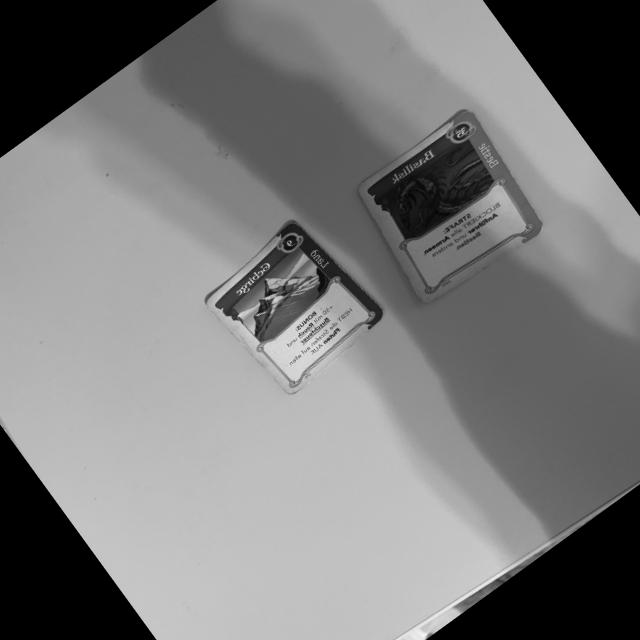Basilisk: (354, 109, 546, 306)
Mountain: (202, 219, 385, 394)
